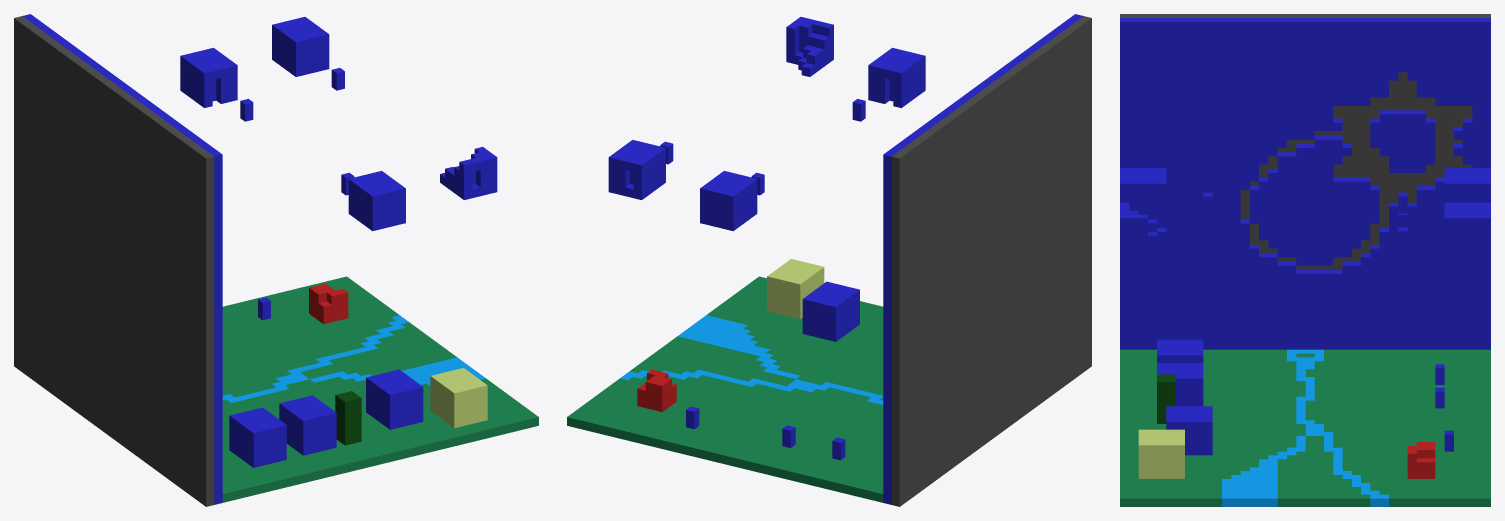
The model's file is Material Experiments - GLB.glb.
3 views of the same model, side by side, from view 1: azimuth 30°, elevation 25°; view 2: azimuth 150°, elevation 25°; view 3: azimuth 270°, elevation 25° (orthographic). The views are drawn at different scales.
Visible parts, largest first — view 1: Material Experiments - OBJ.001; view 2: Material Experiments - OBJ.001; view 3: Material Experiments - OBJ.001.
Part boxes in pixels (bbox=[...]): Material Experiments - OBJ.001: bbox=[14, 14, 538, 506]; Material Experiments - OBJ.001: bbox=[567, 14, 1091, 506]; Material Experiments - OBJ.001: bbox=[1120, 14, 1490, 506].
Bounding box in the file's own units: 4 × 4 × 4.
1 material, 1 textured.
